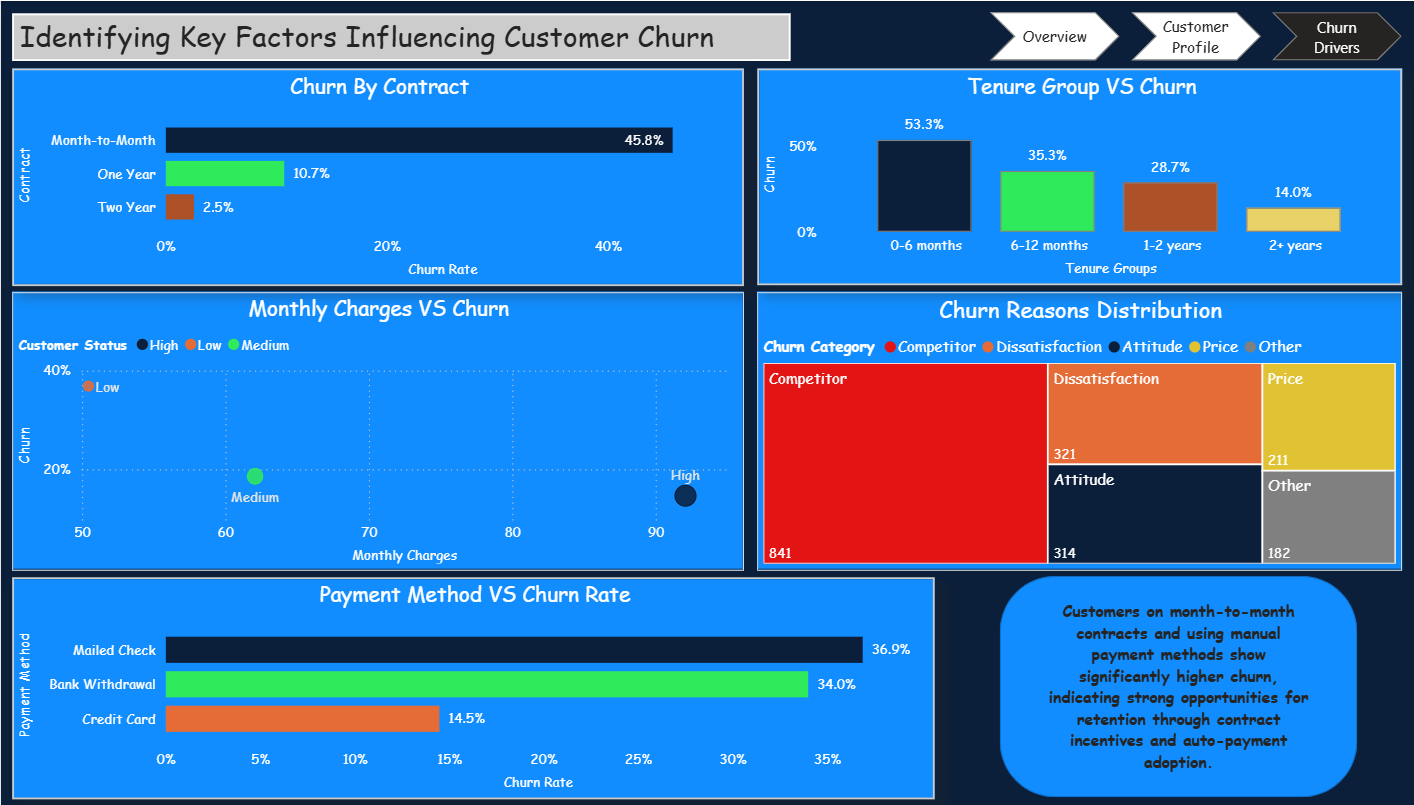

What the dashboard file says about the page in this screenshot:
{"tool":"powerbi","page":{"name":"Churn Drivers","canvas":[1280,720],"ordinal":2},"visuals":[{"type":"shape","box":[892.2,513.7,319.4,197.6],"z":0},{"type":"shape","box":[9.6,516.3,823.7,196.9],"z":1000},{"type":"shape","box":[9.6,259.4,653.2,248.6],"z":2000},{"type":"shape","box":[9.6,60,653.2,193.3],"z":3000},{"type":"textbox","title":"Identifying Key Factors Influencing Customer Churn","box":[9.6,10.8,695.2,42],"z":4000},{"type":"clusteredBarChart","title":"Churn By Contract","fields":{"Category":["churn.Contract"],"Y":["churn.Churn Rate"]},"box":[9.6,60,653.2,194.5],"z":10000},{"type":"shape","box":[677.2,60,575.2,193.3],"z":11000},{"type":"shape","box":[676,259.4,576.4,248.6],"z":12000},{"type":"clusteredColumnChart","title":"Tenure Group VS Churn","fields":{"Y":["churn.Churn Rate"],"Category":["churn.Tenure_Groups"]},"box":[676,60,576.4,193.3],"z":13000},{"type":"scatterChart","title":"Monthly Charges VS Churn","fields":{"X":["Avg(churn.Monthly_Charge)"],"Size":["Sum(churn.Total_Revenue)"],"Y":["churn.Churn Rate"],"Series":["churn.Customer_Value_Tier"]},"box":[9.6,260.6,653.2,248.6],"z":14000},{"type":"treemap","title":"Churn Reasons Distribution","fields":{"Group":["churn.Churn_Category","churn.Churn_Reason"],"Values":["CountNonNull(churn.Customer_ID)"]},"box":[676,260.6,576.4,248.6],"z":15000},{"type":"clusteredBarChart","title":"Payment Method VS Churn Rate","fields":{"Category":["churn.Payment_Method"],"Y":["churn.Churn Rate"]},"box":[9.6,515.1,823.7,198.1],"z":16000},{"type":"pageNavigator","box":[883.4,9.8,368.8,43.5],"z":17000},{"type":"textbox","box":[925.7,530.4,252.4,166.4],"z":18000}]}

Visuals, with their boxes in screenshot pixels (x1, y1, x2, y2), scaled from the page's 1280x720 canvas onto the 1414x805 screenshot:
shape: l=986, t=574, r=1338, b=795
shape: l=11, t=577, r=921, b=797
shape: l=11, t=290, r=732, b=568
shape: l=11, t=67, r=732, b=283
"Identifying Key Factors Influencing Customer Churn" textbox: l=11, t=12, r=779, b=59
"Churn By Contract" clusteredBarChart: l=11, t=67, r=732, b=285
shape: l=748, t=67, r=1384, b=283
shape: l=747, t=290, r=1384, b=568
"Tenure Group VS Churn" clusteredColumnChart: l=747, t=67, r=1384, b=283
"Monthly Charges VS Churn" scatterChart: l=11, t=291, r=732, b=569
"Churn Reasons Distribution" treemap: l=747, t=291, r=1384, b=569
"Payment Method VS Churn Rate" clusteredBarChart: l=11, t=576, r=921, b=797
pageNavigator: l=976, t=11, r=1383, b=60
textbox: l=1023, t=593, r=1301, b=779
